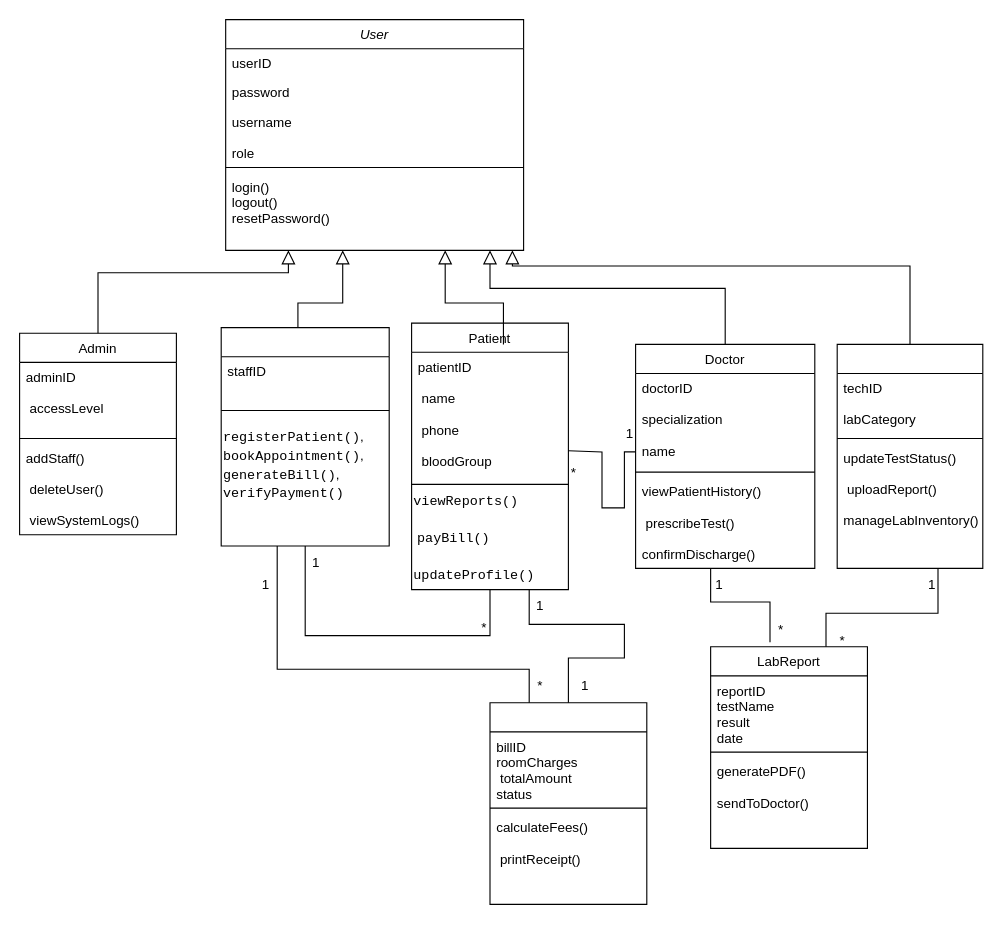
Some shapes in this 1002 by 927 pixel diagram are drawn without their labels. The box of each missing label's shape, as (x1, y1, x2, y2) in pixels:
Billing: (489, 702, 647, 904)
Lab Technicians: (836, 343, 983, 568)
Receptionist: (220, 326, 389, 546)
